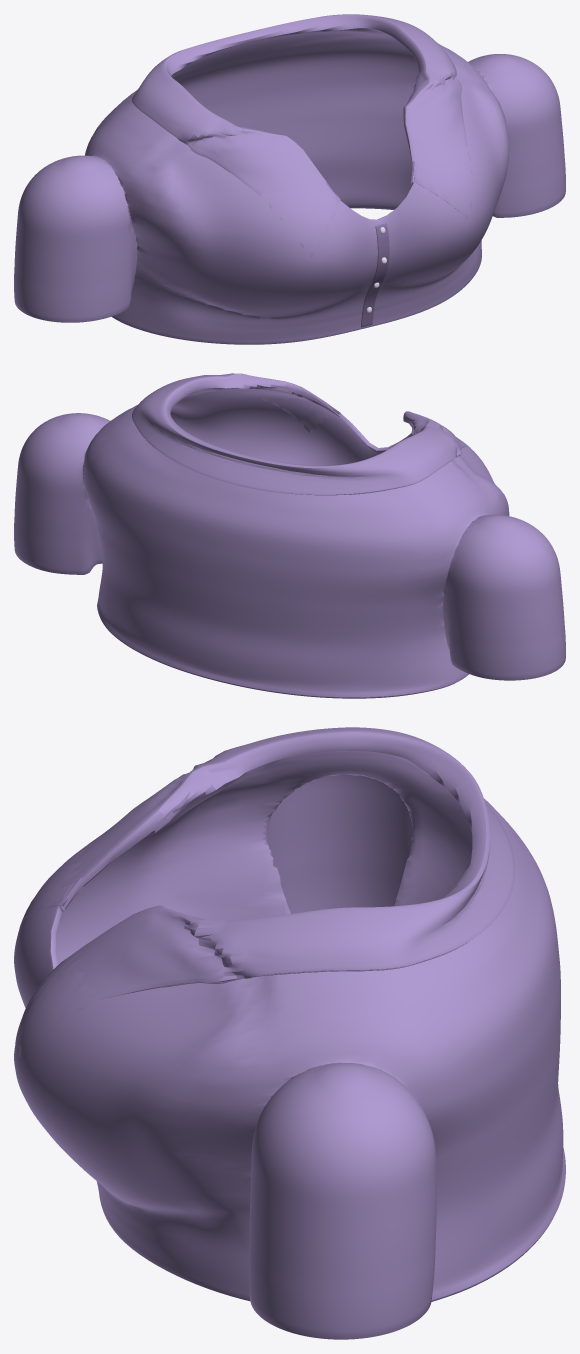
Rendered from Feminine-open-top.glb.
3 renders of one model, top to bottom at view 1: azimuth 30°, elevation 25°; view 2: azimuth 150°, elevation 25°; view 3: azimuth 270°, elevation 25°, orthographic. The views are drawn at different scales.
Visible parts, largest first — view 1: Clothing / joined open186, Button-up / lower closed placket; view 2: Clothing / joined open186, Shirt / seated hem export; view 3: Clothing / joined open186.
Part boxes in pixels (x1,y1,x2,y2): Clothing / joined open186: (14, 14, 565, 344); Button-up / lower closed placket: (361, 223, 389, 327); Clothing / joined open186: (14, 373, 565, 697); Shirt / seated hem export: (102, 622, 468, 698); Clothing / joined open186: (14, 727, 565, 1339).
Bounding box in the file's own units: 0.9321 × 0.3605 × 0.5107.
